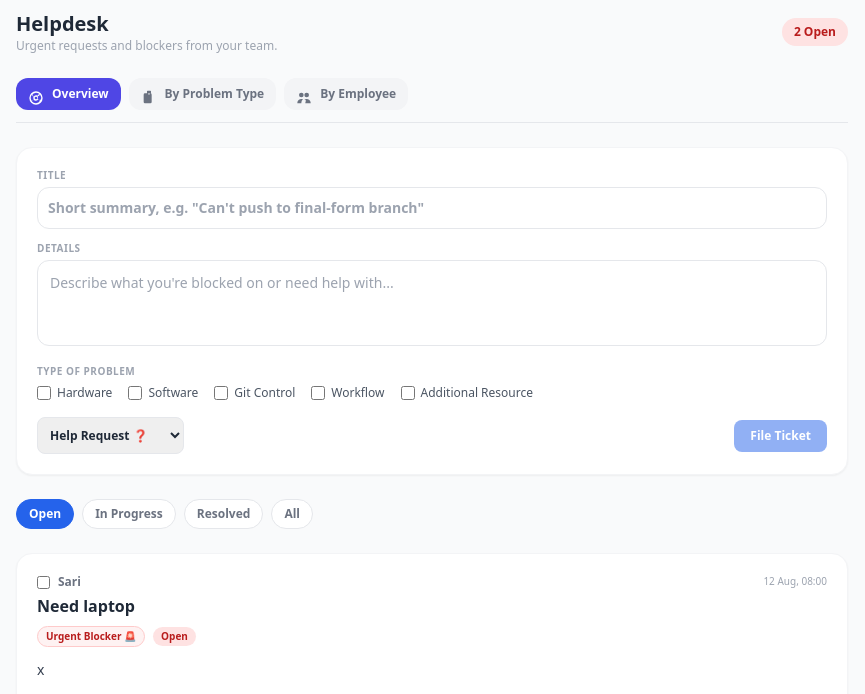
Scenario: HelpdeskView › the By Employee tab counts total and open tickets per employee
Click the tab "By Employee".
click(346, 94)  # box [284,78,408,110]
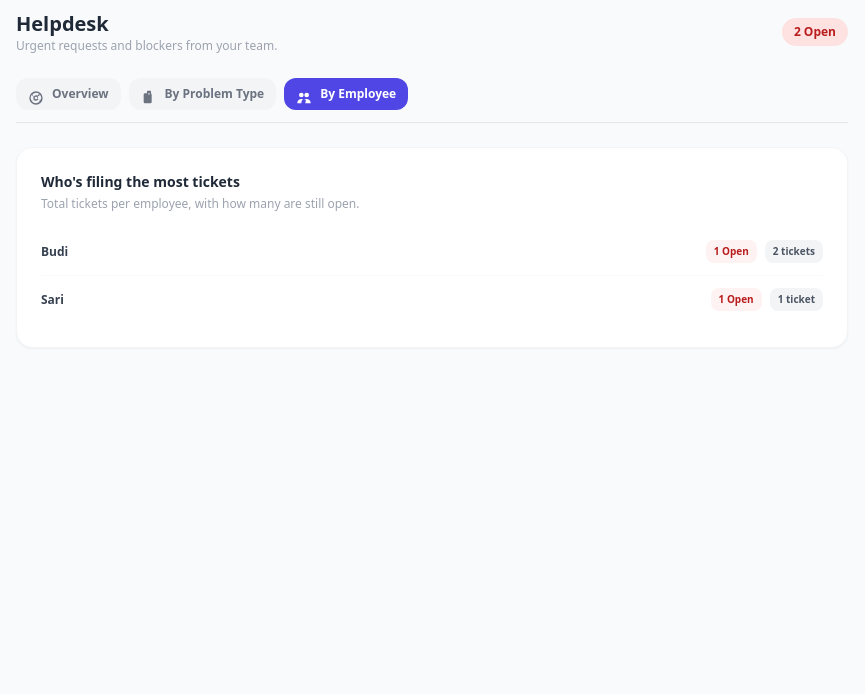
Expected: the text "Budi" is shown, [41,244,68,260]
Expected: the text "Sari" is shown, [41,292,64,308]
